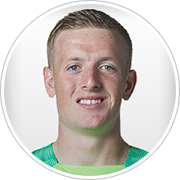smile: (74, 95, 107, 108)
